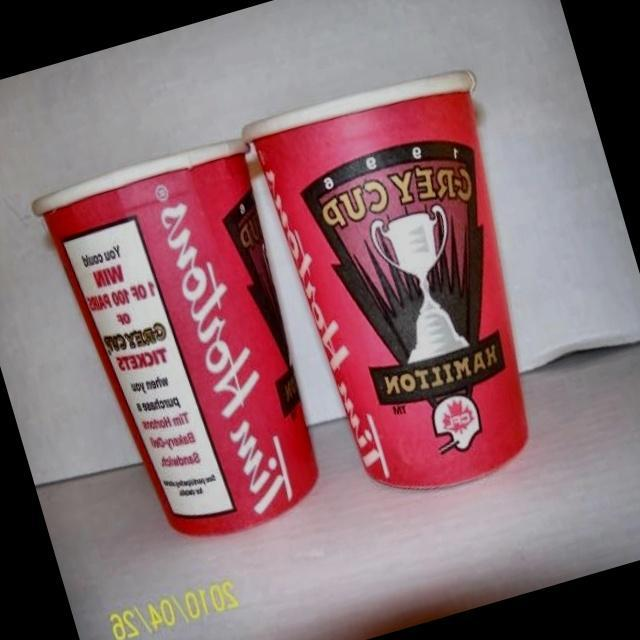timmies: (28, 132, 354, 562), (236, 55, 540, 498)
